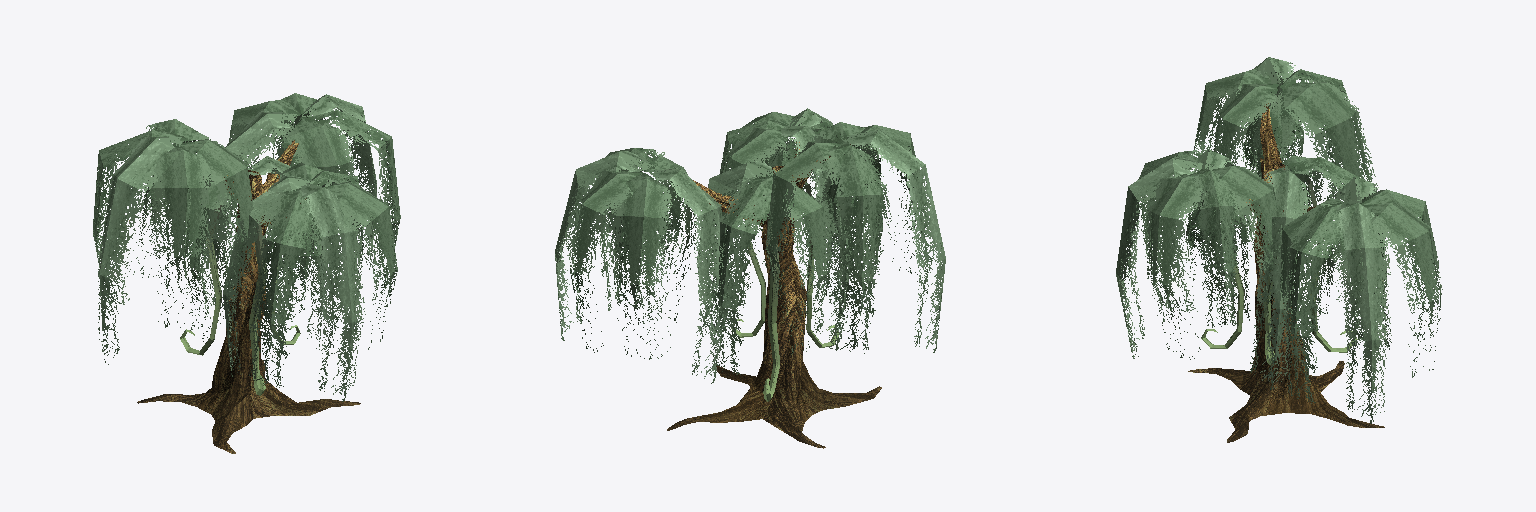
3 renders of one model, left to right at view 1: azimuth 30°, elevation 25°; view 2: azimuth 150°, elevation 25°; view 3: azimuth 270°, elevation 25°, orthographic.
Parts seen in each view (by area): view 1: DNC_lvl00_tree_willowLeaves:noco_willowLeaves group, mesh_willowTrunk; view 2: DNC_lvl00_tree_willowLeaves:noco_willowLeaves group, mesh_willowTrunk; view 3: DNC_lvl00_tree_willowLeaves:noco_willowLeaves group, mesh_willowTrunk.
Boxes of the visible parts, <box> form: DNC_lvl00_tree_willowLeaves:noco_willowLeaves group: <box>93,93,400,401</box>; mesh_willowTrunk: <box>137,140,360,453</box>; DNC_lvl00_tree_willowLeaves:noco_willowLeaves group: <box>555,108,945,383</box>; mesh_willowTrunk: <box>667,142,881,448</box>; DNC_lvl00_tree_willowLeaves:noco_willowLeaves group: <box>1116,57,1442,423</box>; mesh_willowTrunk: <box>1188,103,1384,442</box>.
Size of the model in its own units: 18.89 by 15.96 by 16.06.
1 materials, 1 textured.